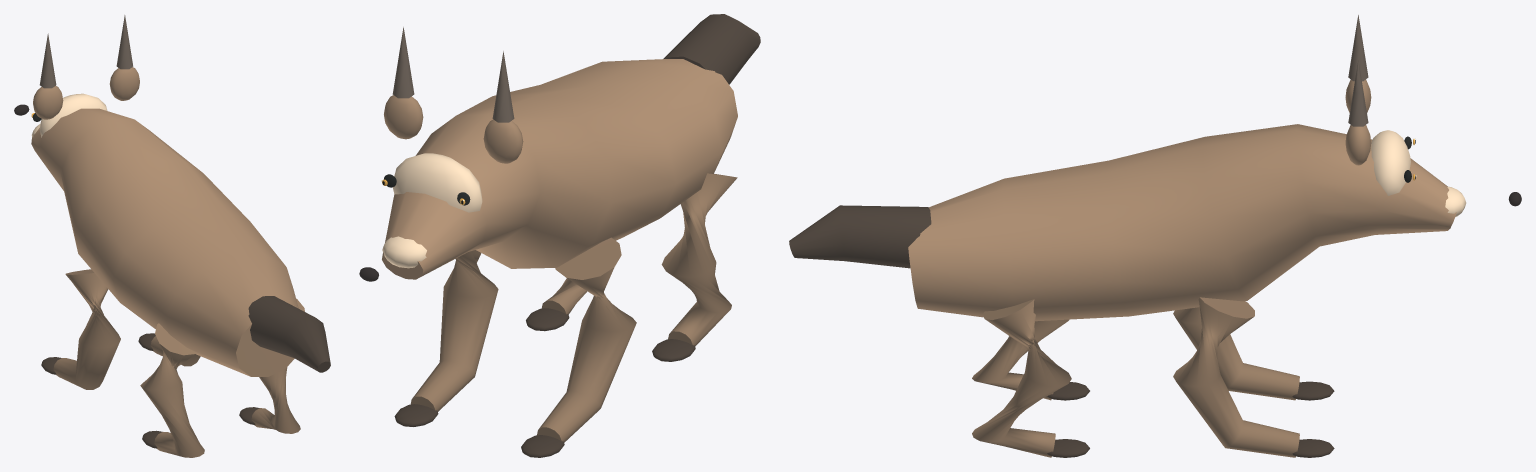
The model's file is lynx_hero.glb.
3 renders of one model, left to right at view 1: azimuth 30°, elevation 25°; view 2: azimuth 150°, elevation 25°; view 3: azimuth 270°, elevation 25°, orthographic. The views are drawn at different scales.
Visible parts, largest first — view 1: LynxOrganicBody, Tail, Leg_LH, Leg_LF, Leg_RH, CheekRuff, RoundEar2, RoundEar, EarTuft_L, EarTuft_R; view 2: LynxOrganicBody, Leg_LF, Leg_RF, Leg_LH, Tail, CheekRuff, RoundEar, RoundEar2, Muzzle, EarTuft_R, EarTuft_L, Leg_RH (+4 smaller); view 3: LynxOrganicBody, Leg_RF, Tail, Leg_RH, Leg_LF, Leg_LH, CheekRuff, RoundEar2, EarTuft_R.
Part boxes in pixels (x1=…): LynxOrganicBody: x1=31, y1=108, x2=298, y2=376; Tail: x1=248, y1=296, x2=330, y2=372; Leg_LH: x1=140, y1=323, x2=204, y2=457; Leg_LF: x1=53, y1=269, x2=120, y2=389; Leg_RH: x1=251, y1=298, x2=304, y2=433; CheekRuff: x1=39, y1=93, x2=107, y2=137; RoundEar2: x1=109, y1=67, x2=139, y2=100; RoundEar: x1=33, y1=86, x2=63, y2=119; EarTuft_L: x1=39, y1=33, x2=56, y2=88; EarTuft_R: x1=116, y1=15, x2=133, y2=69; LynxOrganicBody: x1=382, y1=59, x2=737, y2=279; Leg_LF: x1=537, y1=237, x2=636, y2=442; Leg_RF: x1=410, y1=250, x2=498, y2=411; Leg_LH: x1=661, y1=173, x2=737, y2=346; Tail: x1=663, y1=14, x2=760, y2=84; CheekRuff: x1=392, y1=153, x2=482, y2=212; RoundEar: x1=483, y1=119, x2=523, y2=163; RoundEar2: x1=384, y1=95, x2=423, y2=139; Muzzle: x1=382, y1=236, x2=426, y2=268; EarTuft_R: x1=392, y1=27, x2=414, y2=98; EarTuft_L: x1=492, y1=51, x2=514, y2=122; Leg_RH: x1=541, y1=278, x2=587, y2=314; LynxOrganicBody: x1=908, y1=124, x2=1456, y2=321; Leg_RF: x1=1173, y1=297, x2=1299, y2=457; Tail: x1=789, y1=205, x2=931, y2=268; Leg_RH: x1=972, y1=299, x2=1071, y2=457; Leg_LF: x1=1173, y1=307, x2=1299, y2=400; Leg_LH: x1=972, y1=319, x2=1068, y2=400; CheekRuff: x1=1371, y1=130, x2=1410, y2=195; RoundEar2: x1=1345, y1=125, x2=1371, y2=165; EarTuft_R: x1=1348, y1=60, x2=1368, y2=126.
Bounding box in the file's own units: 1.1 × 2.34 × 3.98.
